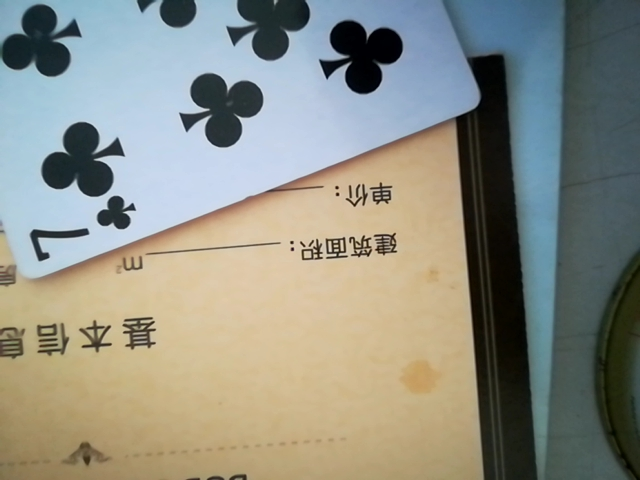mh 7: (1, 0, 480, 285)
